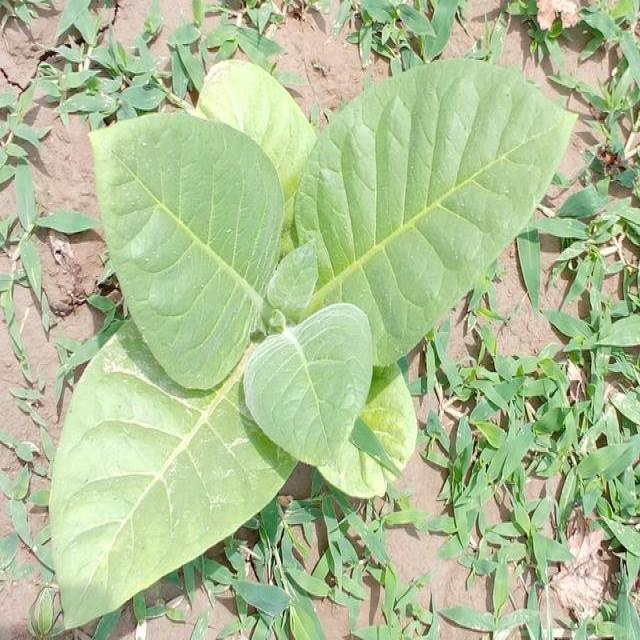crop: (46, 56, 568, 640)
